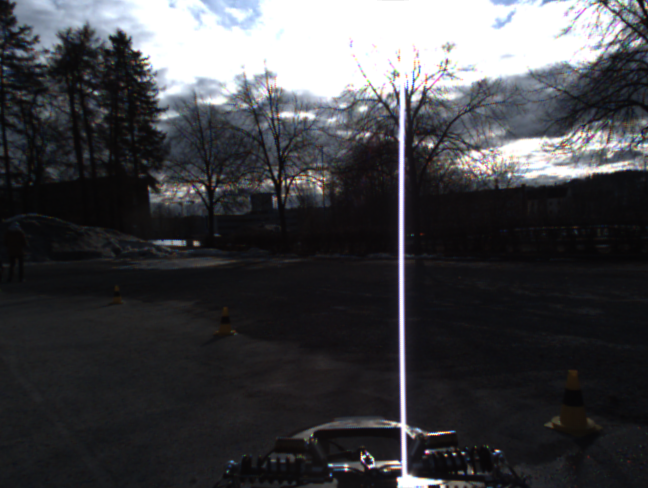cone-small-yellow: (543, 370, 602, 434), (213, 306, 237, 335), (109, 286, 124, 304)
